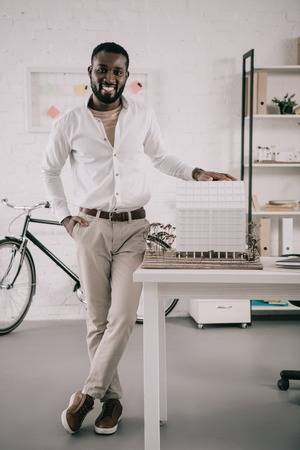F_shirt: (42, 97, 199, 222)
